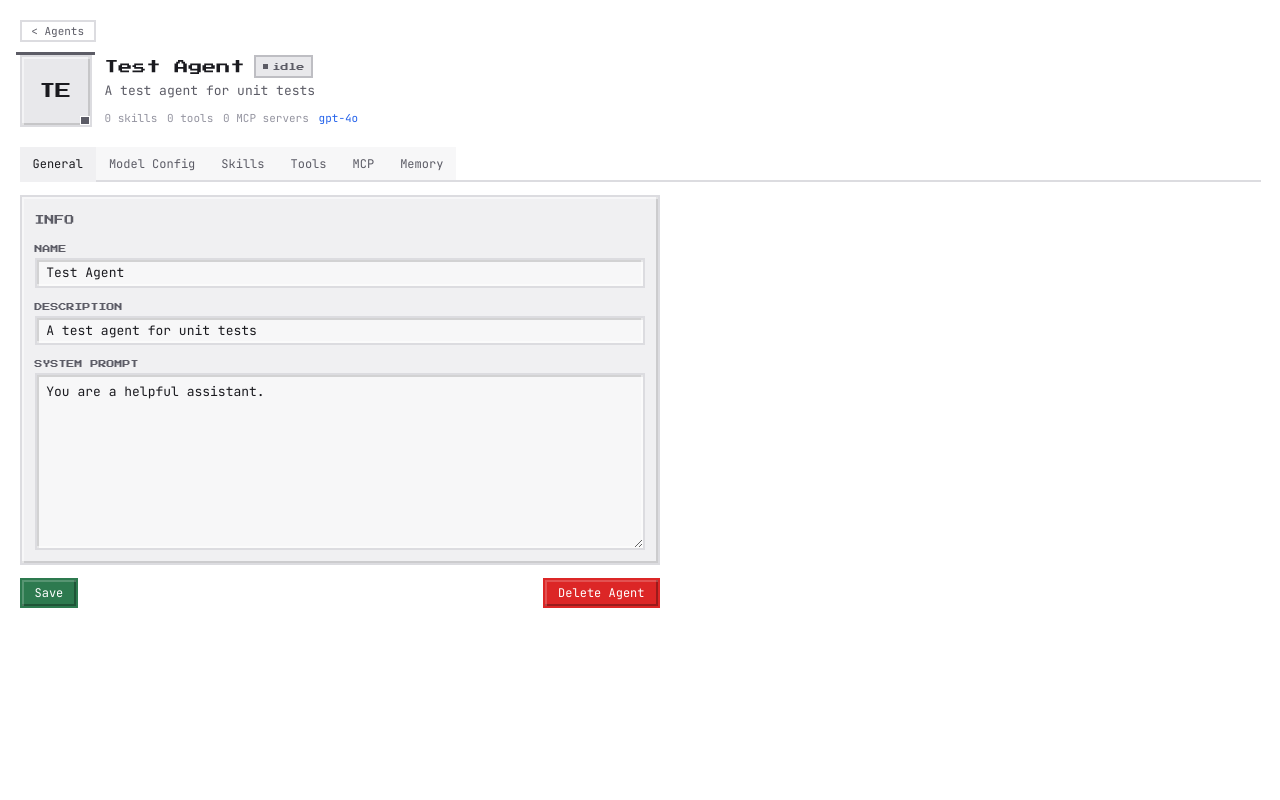
Test: AgentDetailPage › switches to Tools tab and shows built-in tools
Click the button "Tools" at [308, 164], box [278,147,340,182]
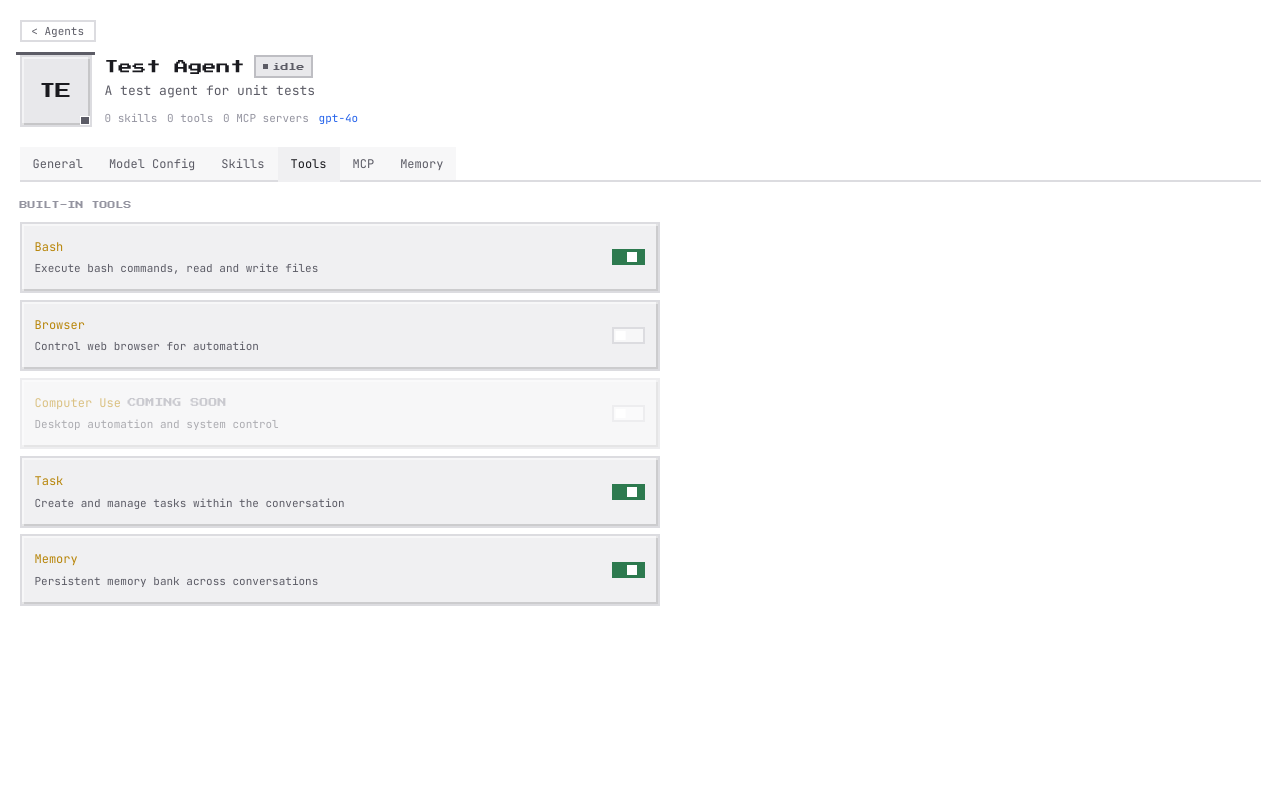
Expected: the text "Bash" is shown, [34,236,63,256]
Expected: the text "Browser" is shown, [34,315,85,335]
Expected: the text "Computer Use" is shown, [34,393,121,413]
